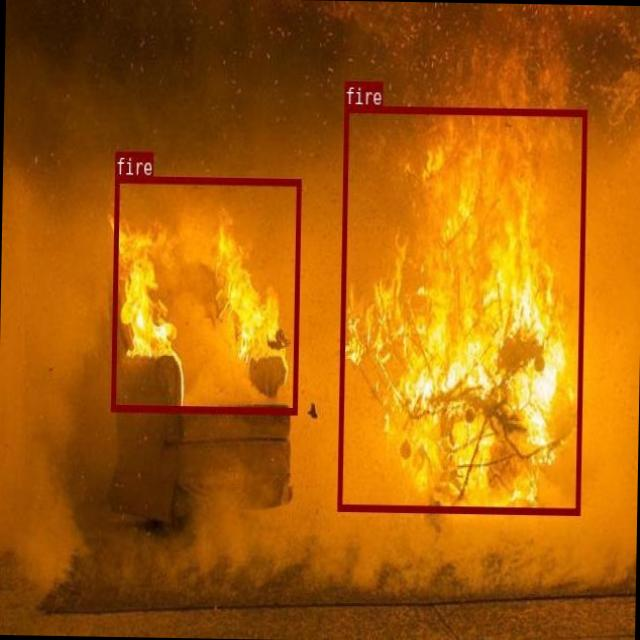fire: (337, 104, 586, 514), (110, 175, 300, 412)
